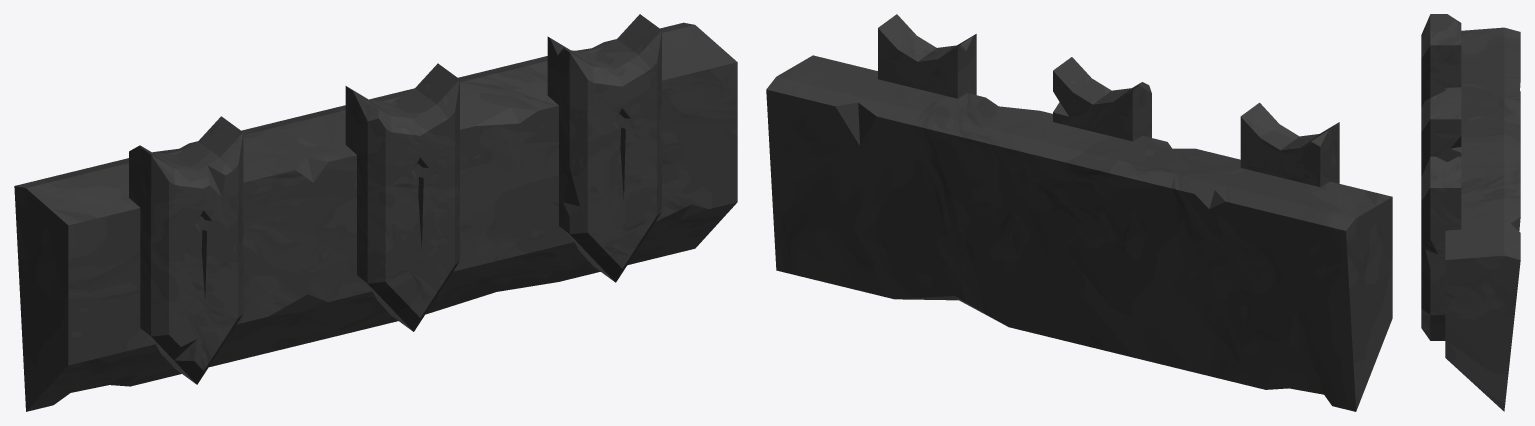
The model's file is isle_battlement.gltf.
3 renders of one model, left to right at view 1: azimuth 30°, elevation 25°; view 2: azimuth 150°, elevation 25°; view 3: azimuth 270°, elevation 25°, orthographic. The views are drawn at different scales.
Parts seen in each view (by area): view 1: isle_battlement; view 2: isle_battlement; view 3: isle_battlement.
Boxes of the visible parts, left/top/right/bottom form: isle_battlement: left=14, top=14, right=737, bottom=411; isle_battlement: left=766, top=14, right=1392, bottom=411; isle_battlement: left=1421, top=14, right=1520, bottom=411.
Bounding box in the file's own units: 5 × 1.99 × 0.921.
1 material, 1 textured.
